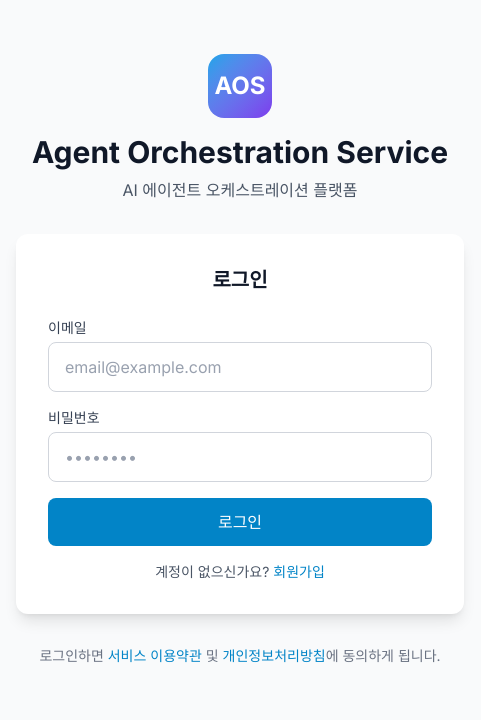
LoginPage › shows loading state during login
Type "test@test.com" into the field labelled "이메일" at (240, 367), box left=48, top=342, right=432, bottom=392
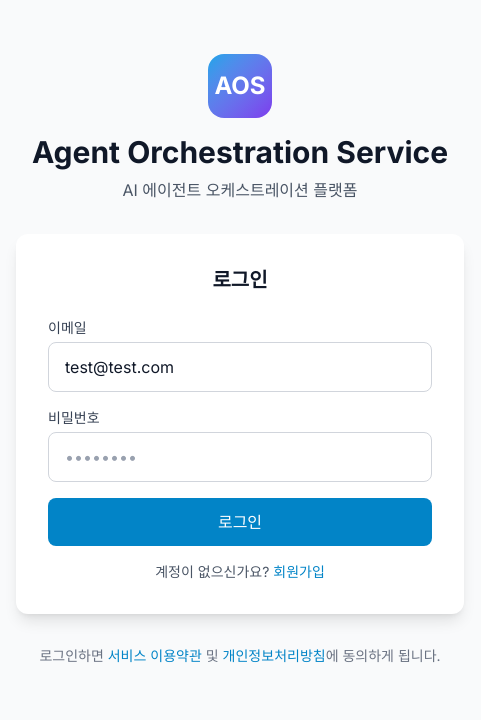
Type "pass" into the password field labelled "비밀번호" at (240, 457), box left=48, top=432, right=432, bottom=482
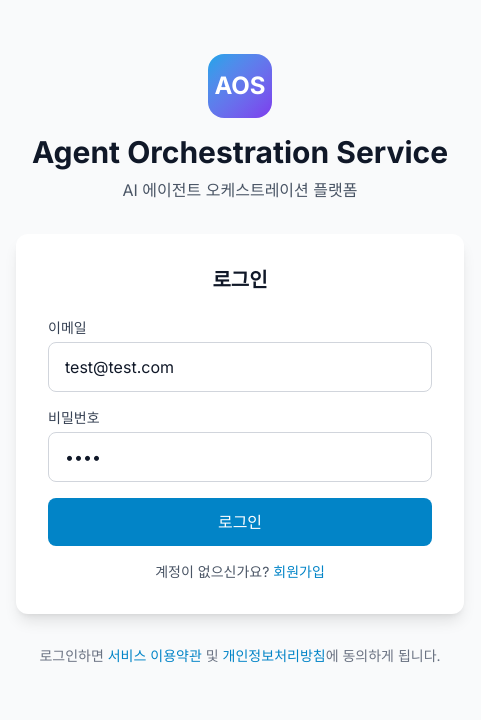
Submit the form from the button "로그인", box left=48, top=498, right=432, bottom=546
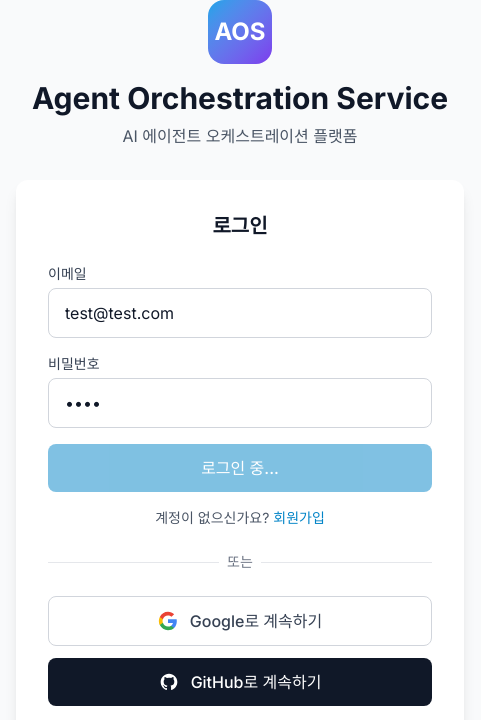
Check: the button "로그인 중..." is shown, box left=48, top=444, right=432, bottom=492
